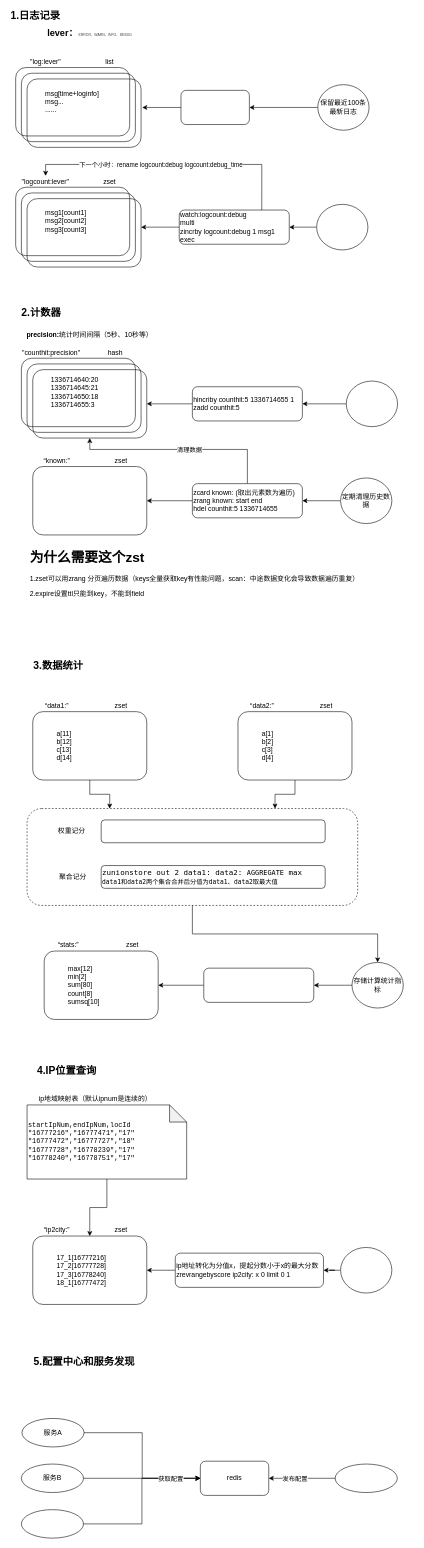
Some shapes in this 424 by 1548 pixel diagram are drawn without their labels. Each missing label, with the centre of its shape:
counthit:5[0] counthit:10[0] ......: the point at 89,500
Lpush log:debug msg Ltrime log:debug 0 99: the point at 214,107
zadd stats: 12 max: the point at 258,985
zunionstore out 2 data1: data2: WEIGHTS 1 2 data1和data2两个集合合并后分值为data1*1+data2*2: the point at 213,831
日志频率统计: the point at 342,227
服务C: the point at 52,1523
根据ip查找城市: the point at 366,1270
计数: the point at 372,403
配置管理: the point at 366,1478
